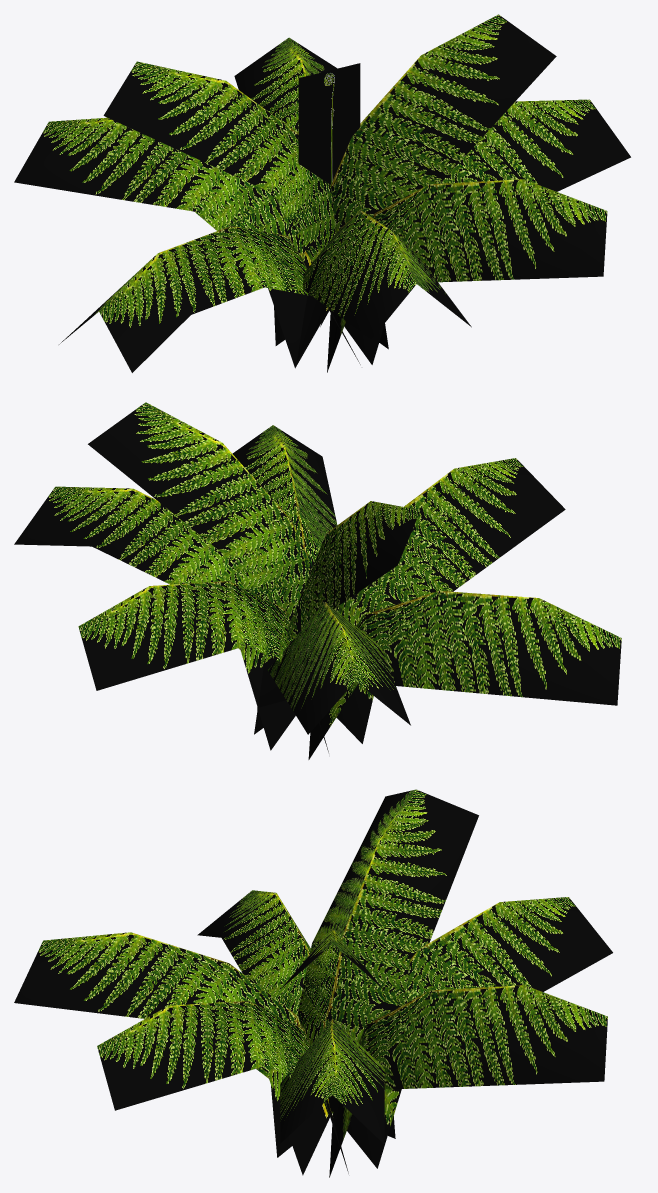
File: fern.glb
3 views of the same model, one above another, from view 1: azimuth 30°, elevation 25°; view 2: azimuth 150°, elevation 25°; view 3: azimuth 270°, elevation 25° (orthographic).
Visible parts, largest first — view 1: geom-TropicFern128.001; view 2: geom-TropicFern128.001; view 3: geom-TropicFern128.001.
Part boxes in pixels (x1,y1,x2,y2): geom-TropicFern128.001: (14,14,630,372); geom-TropicFern128.001: (14,402,621,759); geom-TropicFern128.001: (14,789,612,1177).
Bounding box in the file's own units: 0.4834 × 0.2447 × 0.4702.
Materials: 2 (2 with a texture image).
